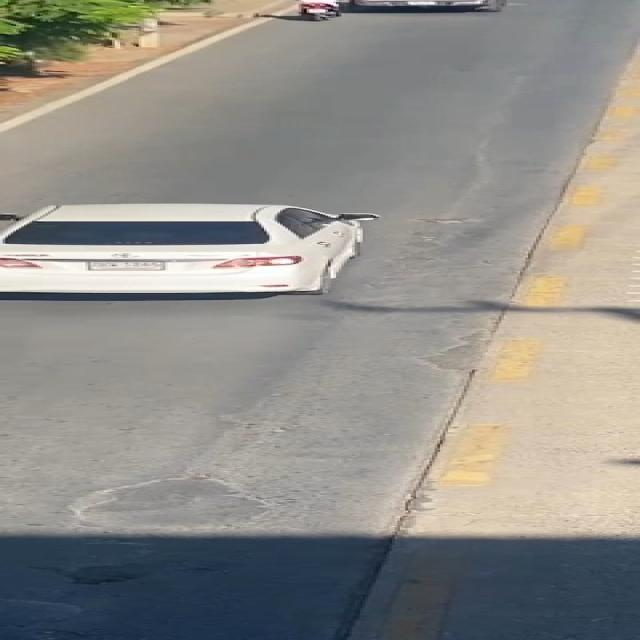car: (0, 192, 427, 316)
